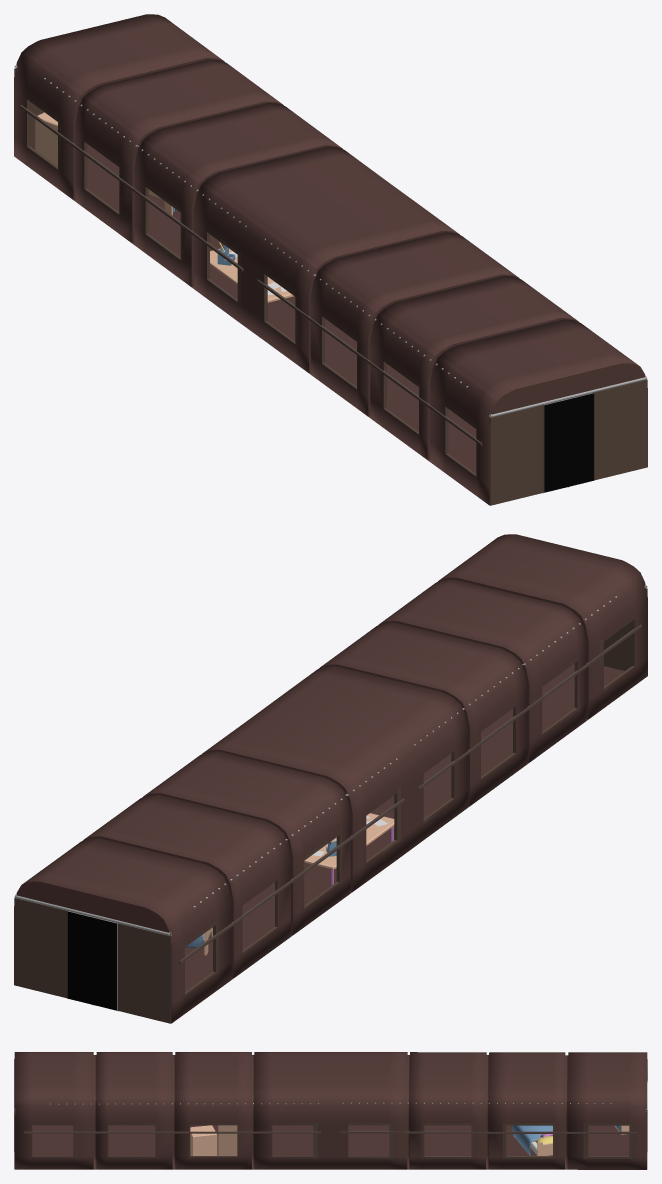
The model's file is TrainChildhood.fbx.
3 views of the same model, one above another, from view 1: azimuth 30°, elevation 25°; view 2: azimuth 150°, elevation 25°; view 3: azimuth 270°, elevation 25° (orthographic). The views are drawn at different scales.
Parts seen in each view (by area): view 1: Train shape, frameright, frameleft, Doorhandle, Window rims.001, Window rims, Windowhing2.001, Windowthing, closet; view 2: Train shape, frameright.001, frameleft.001, Cube.003, Window rims.001, Window rims, Windowhing2.001, Windowthing, frameright, DeskPlate; view 3: Train shape, Window rims.001, Window rims, Windowhing2, Windowthing.001, closet.001, Kast, Cube.005, frameenzo.
Boxes of the visible parts, left/top/right/bottom form: Train shape: left=14, top=14, right=647, bottom=505; frameright: left=489, top=405, right=543, bottom=505; frameleft: left=594, top=379, right=647, bottom=480; Doorhandle: left=544, top=393, right=593, bottom=492; Window rims.001: left=24, top=96, right=241, bottom=306; Window rims: left=264, top=271, right=478, bottom=480; Windowhing2.001: left=19, top=105, right=243, bottom=271; Windowthing: left=257, top=279, right=482, bottom=445; closet: left=35, top=112, right=57, bottom=166; Train shape: left=14, top=534, right=647, bottom=1023; frameright.001: left=14, top=898, right=67, bottom=998; frameleft.001: left=118, top=923, right=171, bottom=1023; Cube.003: left=67, top=911, right=117, bottom=1010; Window rims.001: left=182, top=787, right=400, bottom=998; Window rims: left=423, top=615, right=637, bottom=823; Windowhing2.001: left=179, top=798, right=404, bottom=963; Windowthing: left=418, top=624, right=641, bottom=790; frameright: left=604, top=588, right=647, bottom=670; DeskPlate: left=304, top=813, right=394, bottom=869; Train shape: left=14, top=1052, right=647, bottom=1169; Window rims.001: left=348, top=1122, right=632, bottom=1158; Window rims: left=28, top=1123, right=317, bottom=1158; Windowhing2: left=24, top=1131, right=320, bottom=1133; Windowthing.001: left=340, top=1131, right=636, bottom=1133; closet.001: left=190, top=1125, right=217, bottom=1155; Kast: left=218, top=1125, right=237, bottom=1155; Cube.005: left=512, top=1125, right=552, bottom=1155; frameenzo: left=537, top=1142, right=552, bottom=1155.
Bounding box in the file's own units: 21291 × 13857 × 108248.
